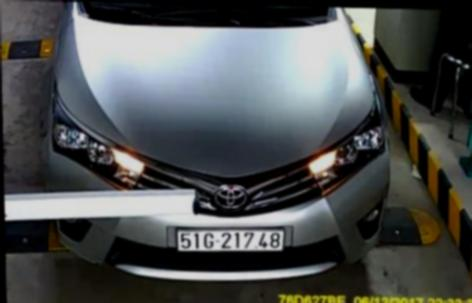License_Plate: (171, 226, 292, 252)
